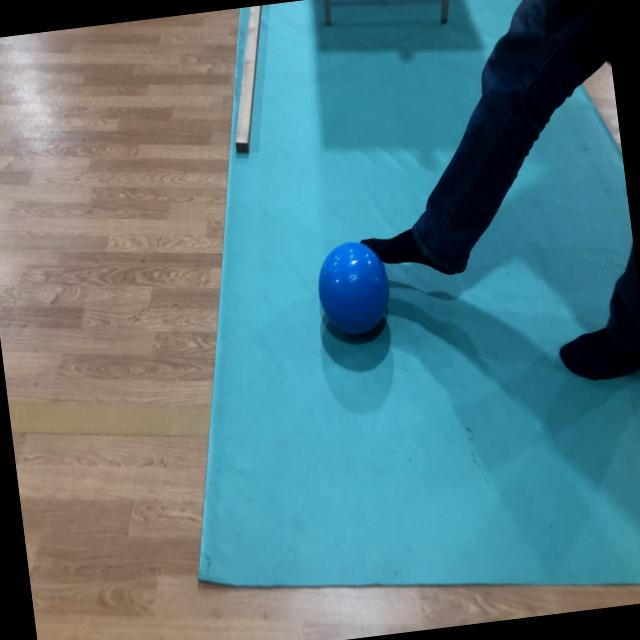blue_ball: (312, 239, 398, 349)
